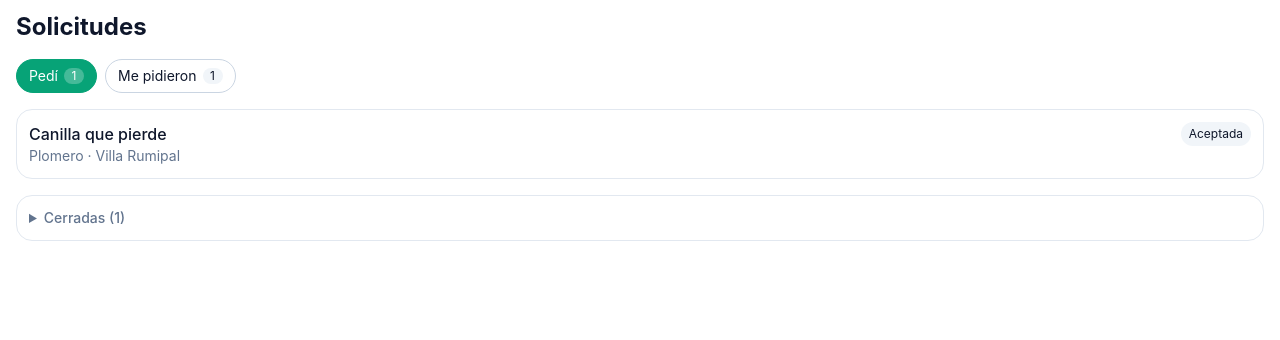
Test: pantalla de solicitudes › deja lo cerrado plegado y fuera del camino
Expected: the text "Poda vieja" is not shown
Step 1. Click the heading "Cerradas (1)" → (84, 218), box [44,209,125,226]
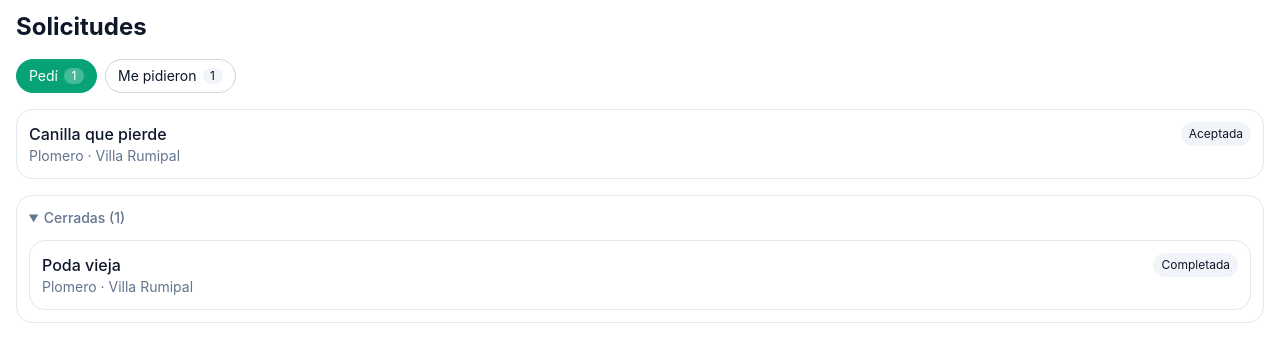
Now the text "Poda vieja" is shown, box [42,255,121,275]
